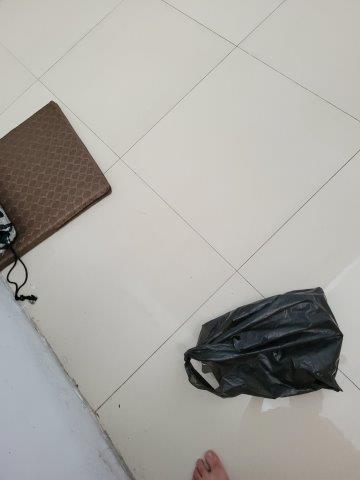plastik: (182, 287, 347, 398)
